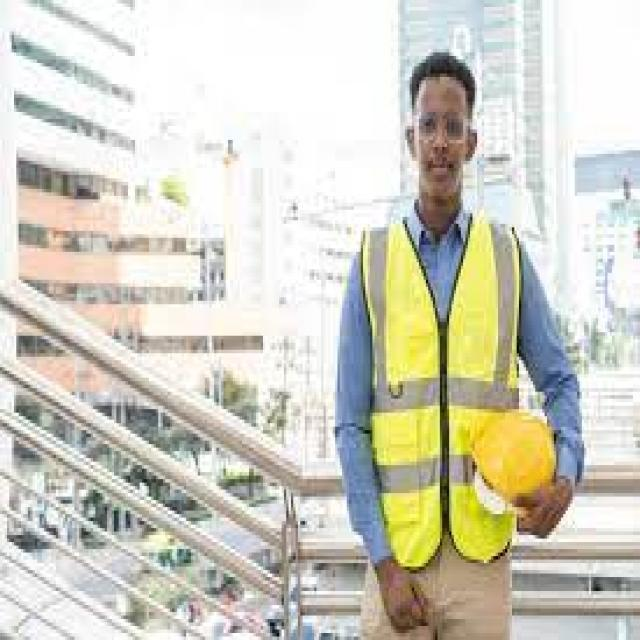reflective_jacket: (352, 209, 530, 577)
safety_helmet: (465, 402, 557, 514)
